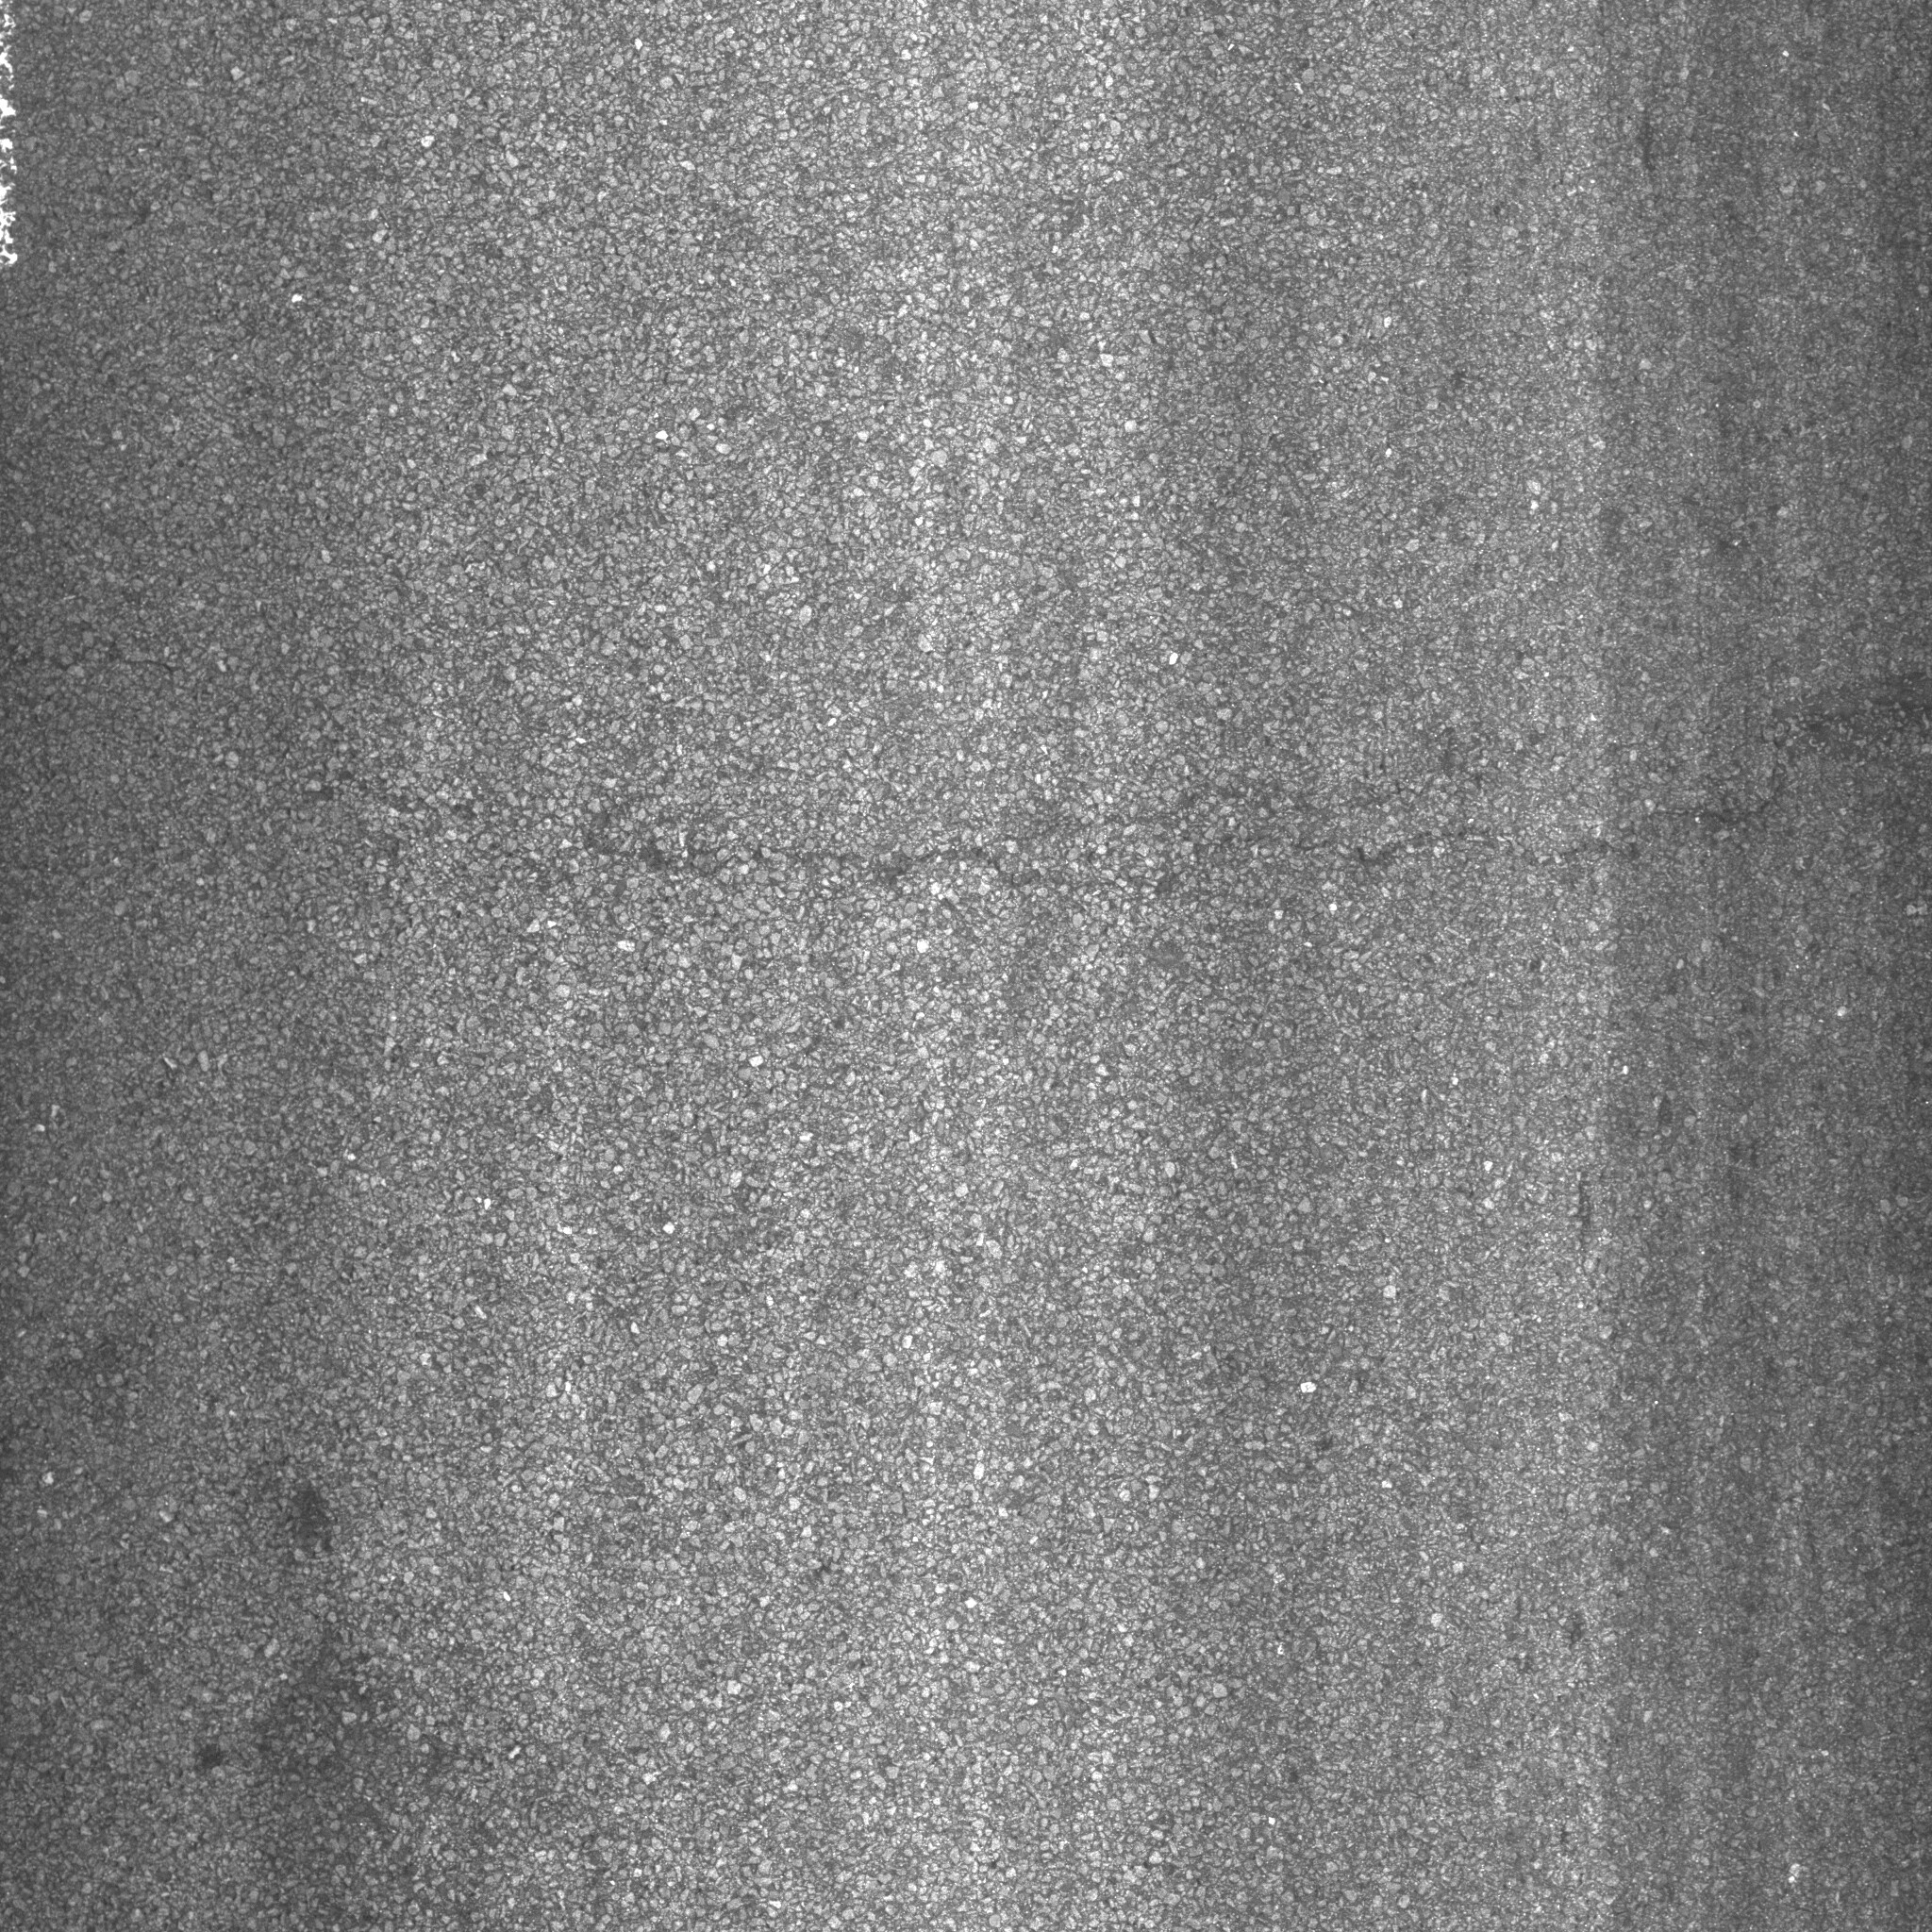transverse: (333, 745, 1831, 1000)
